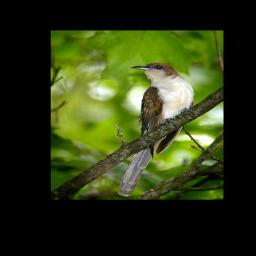Cuckoo: (117, 62, 196, 196)
